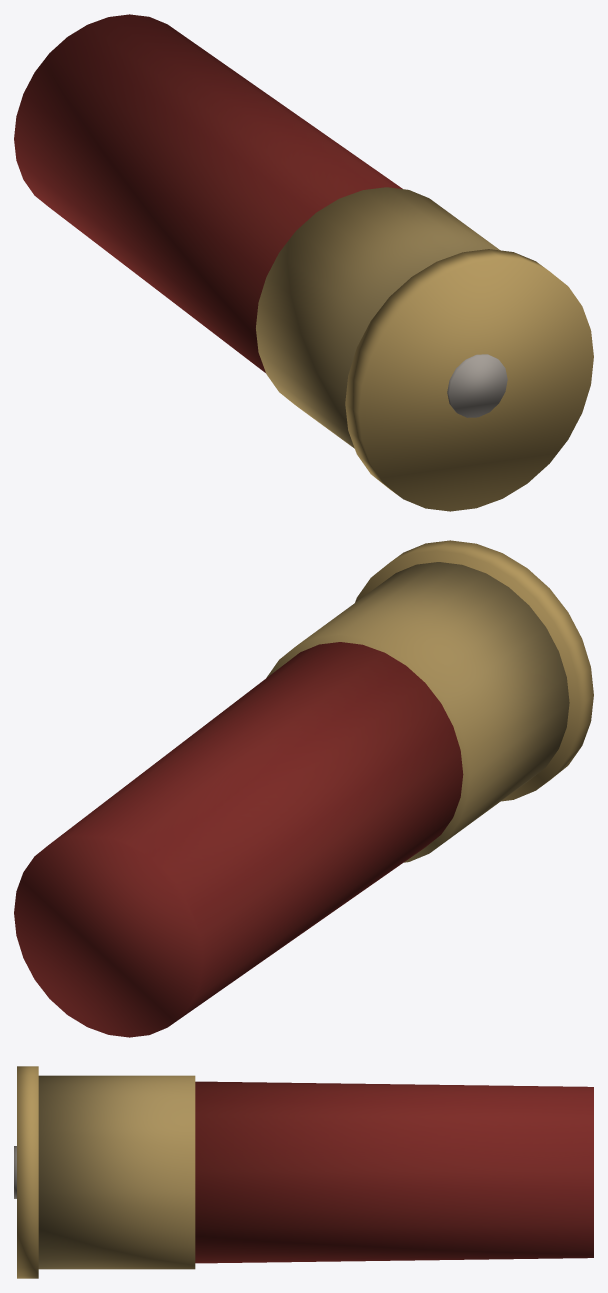
The model's file is shell.glb.
3 views of the same model, one above another, from view 1: azimuth 30°, elevation 25°; view 2: azimuth 150°, elevation 25°; view 3: azimuth 270°, elevation 25° (orthographic). The views are drawn at different scales.
Parts seen in each view (by area): view 1: shell; view 2: shell; view 3: shell.
Boxes of the visible parts, left/top/right/bottom form: shell: left=14, top=14, right=593, bottom=511; shell: left=14, top=540, right=593, bottom=1037; shell: left=14, top=1066, right=593, bottom=1278.
Size of the model in its own units: 0.0224 by 0.0224 by 0.0611.
